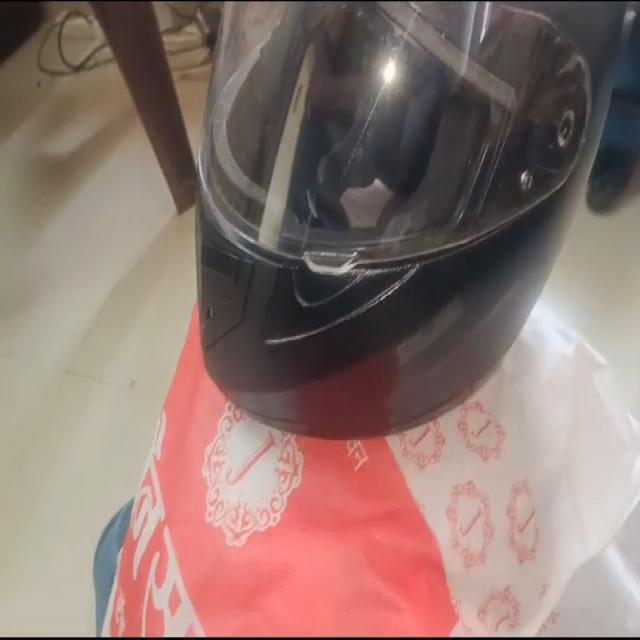Helmet: (195, 4, 632, 445)
